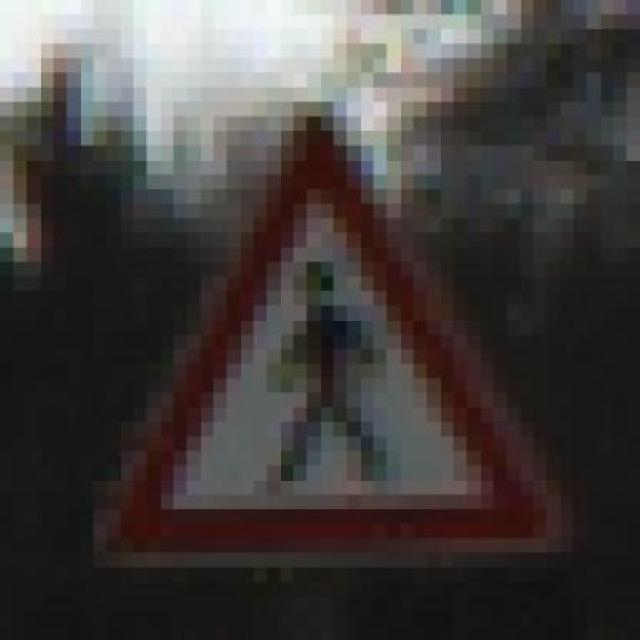Pedestrian Crossing: (67, 102, 587, 568)
